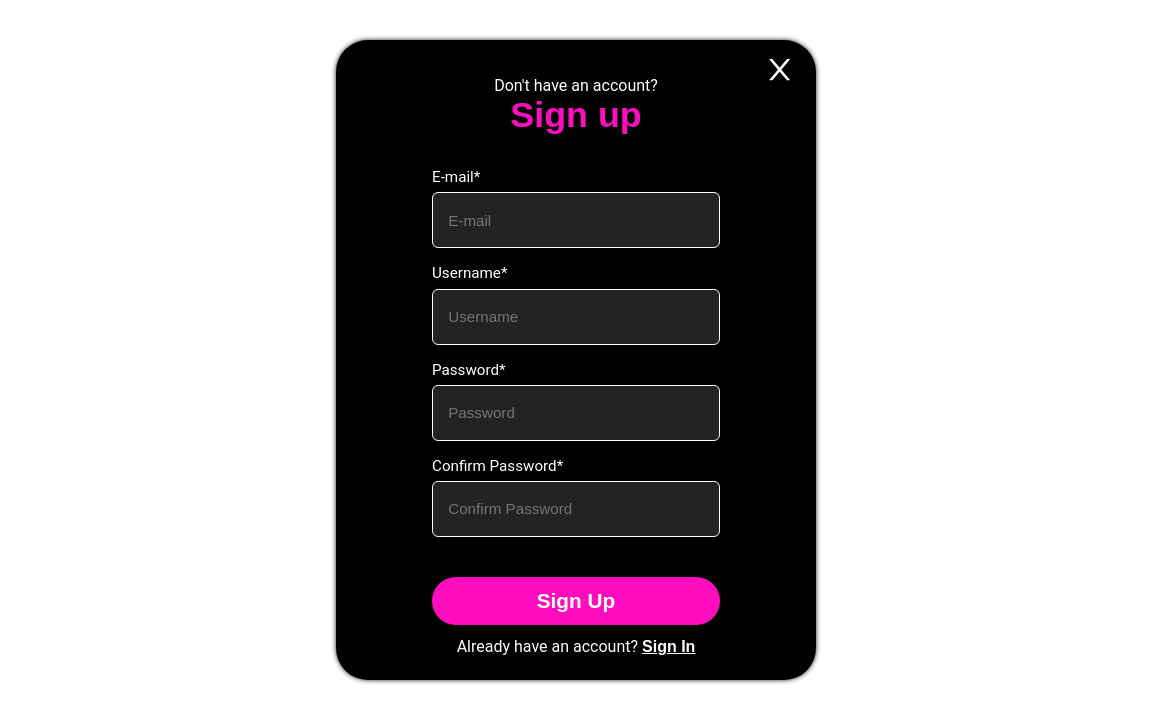
Scenario: form test › username with @ character, invalid email, confirm password, expect email, username, confirm password field errors
The width and height of the screenshot is (1152, 720).
Type "dsa" into the field labelled "E-mail*" at (576, 220), box [432,192,720,248]
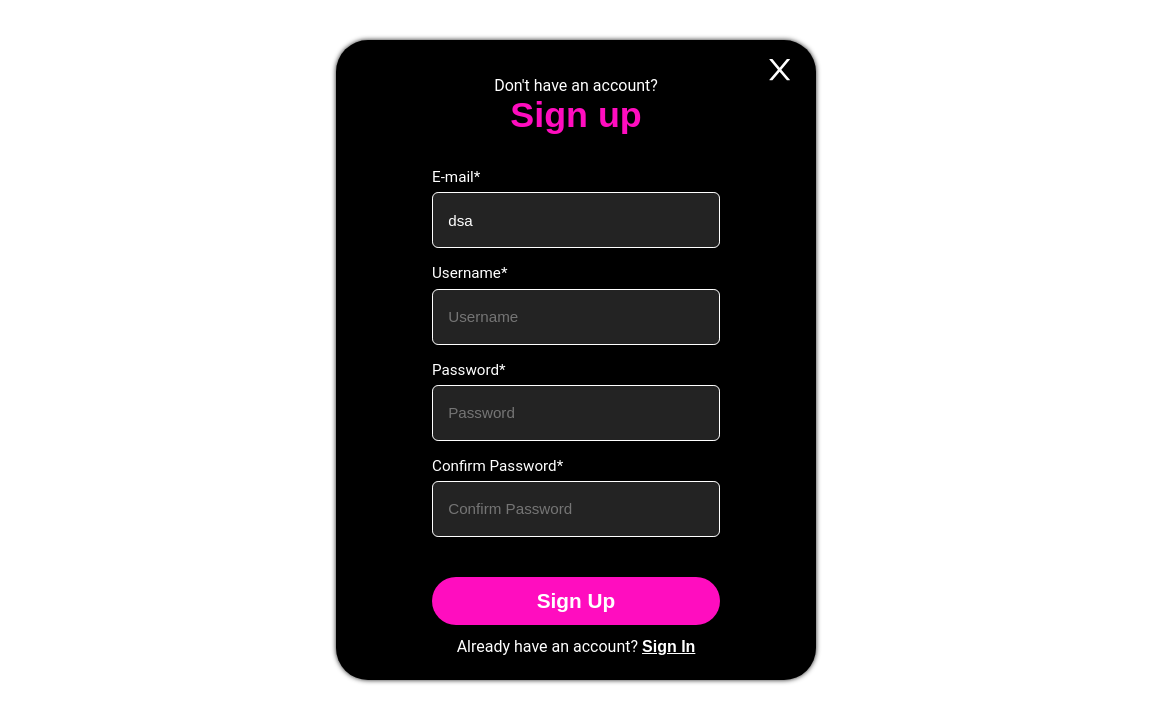
Type "dfdd@ds" into the field labelled "Username*" at (576, 316), box [432,288,720,344]
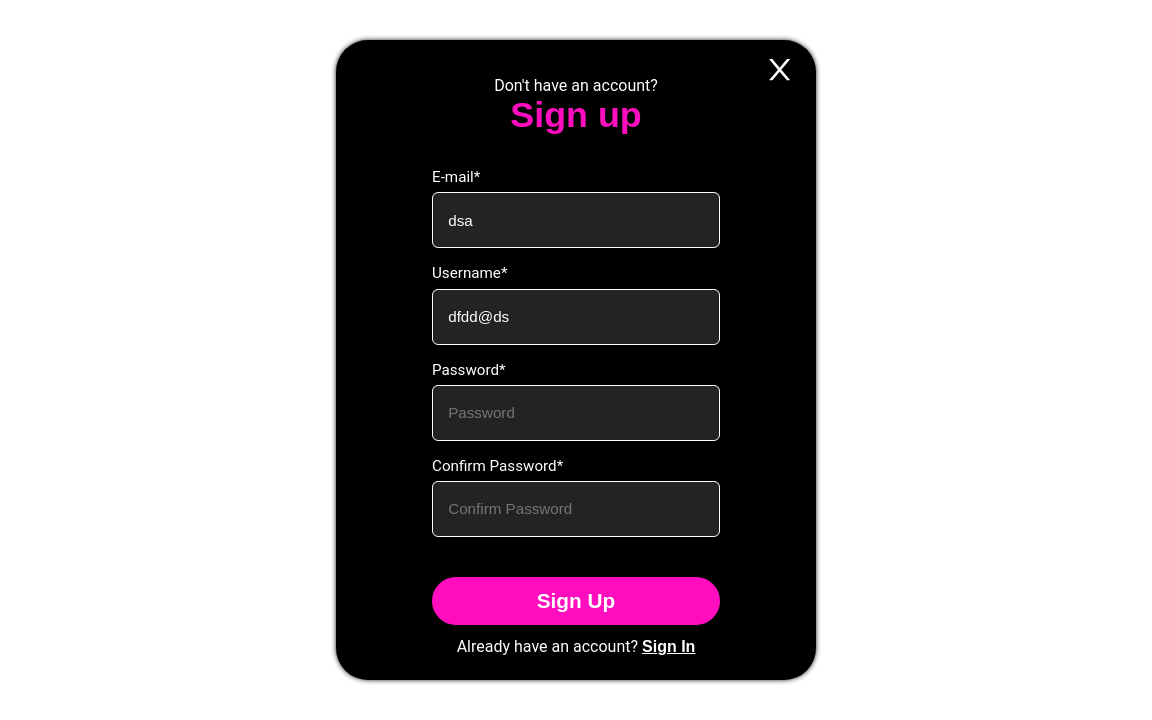
Type "Test123!" into the password field labelled "Password*" at (576, 413), box [432,385,720,441]
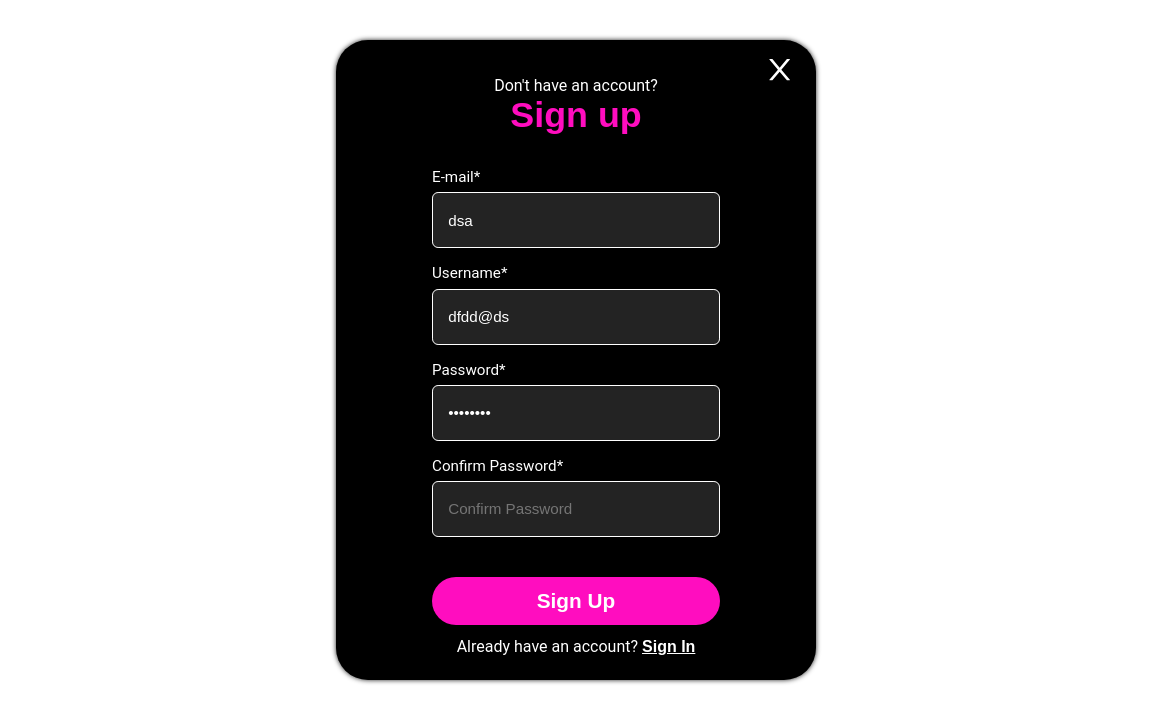
Type "dfsfds" into the password field labelled "Confirm Password*" at (576, 509), box [432,481,720,537]
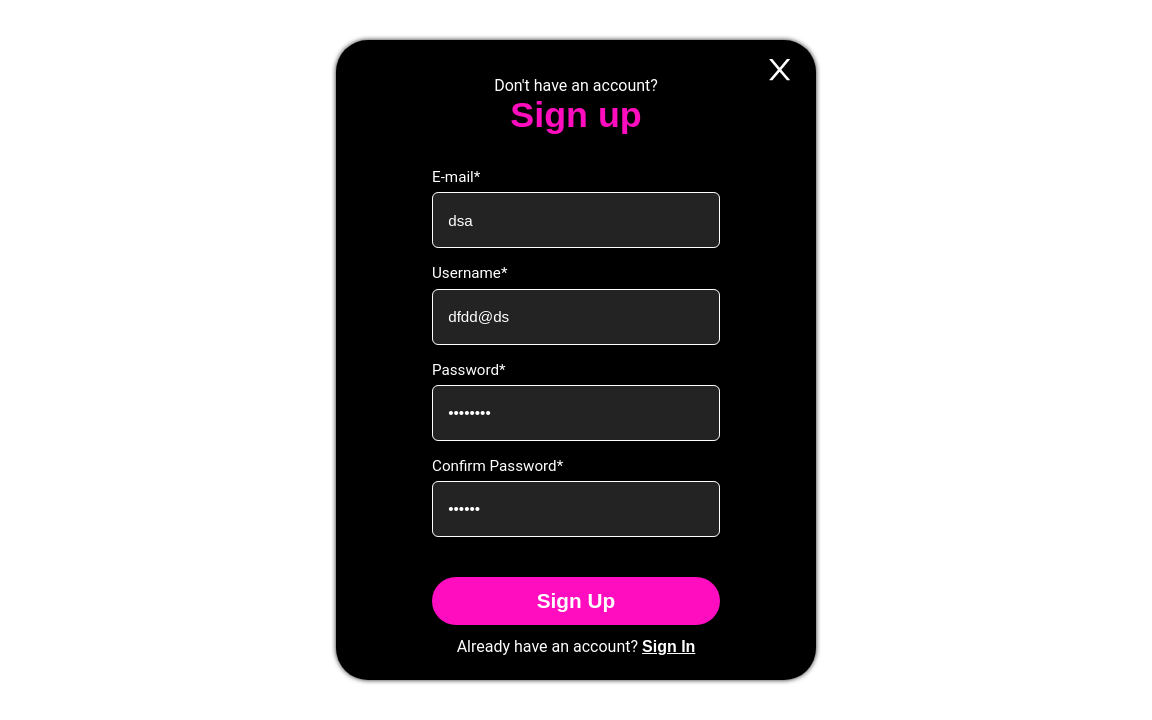
Click the button with test id "submitButton" at (576, 601), box [432,577,720,625]
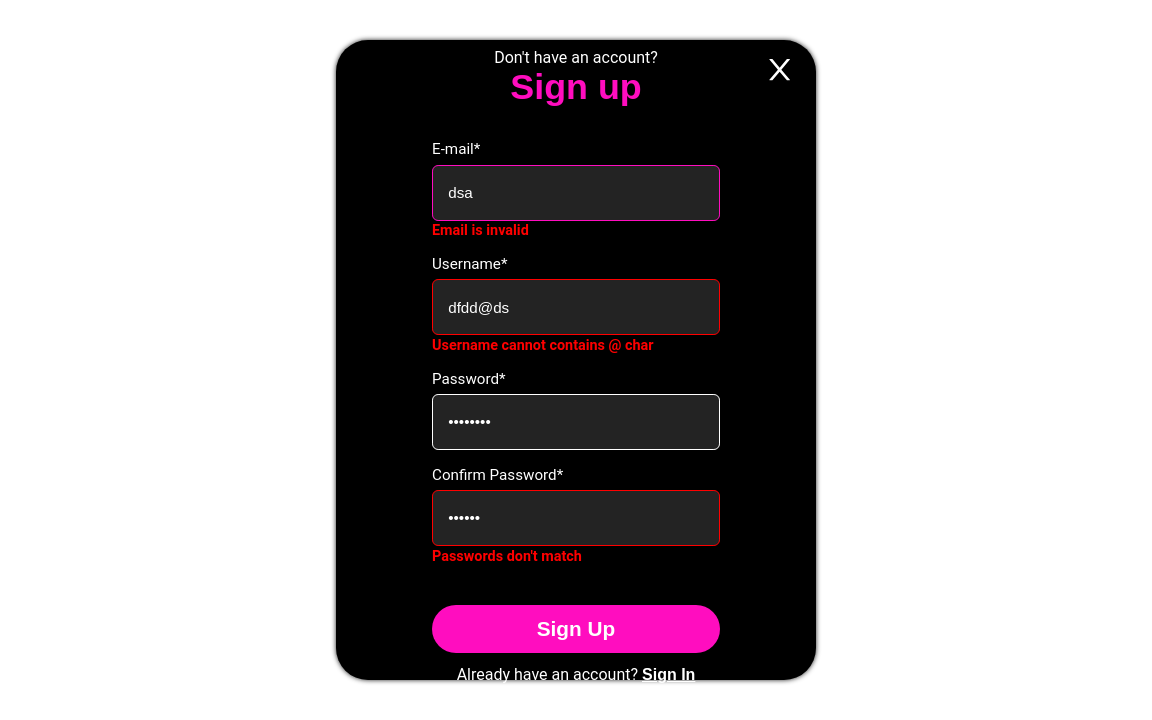
Check: the number of elements with test id "error" is 3, box [432,222,529,239]; [432,337,654,354]; [432,548,582,564]
Check: the text with test id "error" reads "Email is invalid", box [432,222,529,239]
Check: the text with test id "error" reads "Username cannot contains @ char", box [432,337,654,354]
